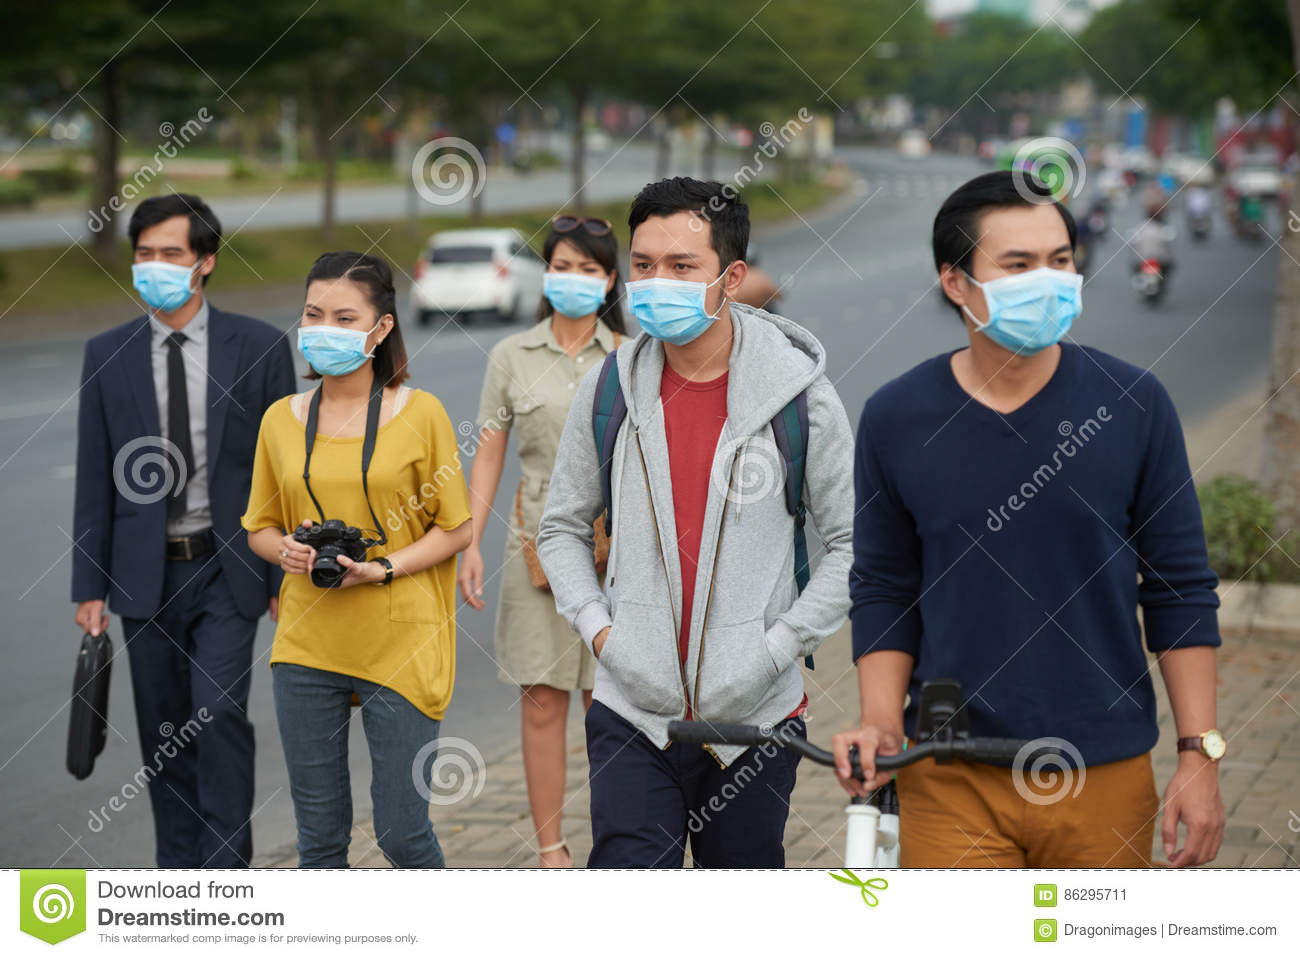mask: (973, 269, 1091, 354), (626, 279, 719, 341), (533, 269, 611, 330), (291, 324, 375, 379), (119, 260, 204, 313)
